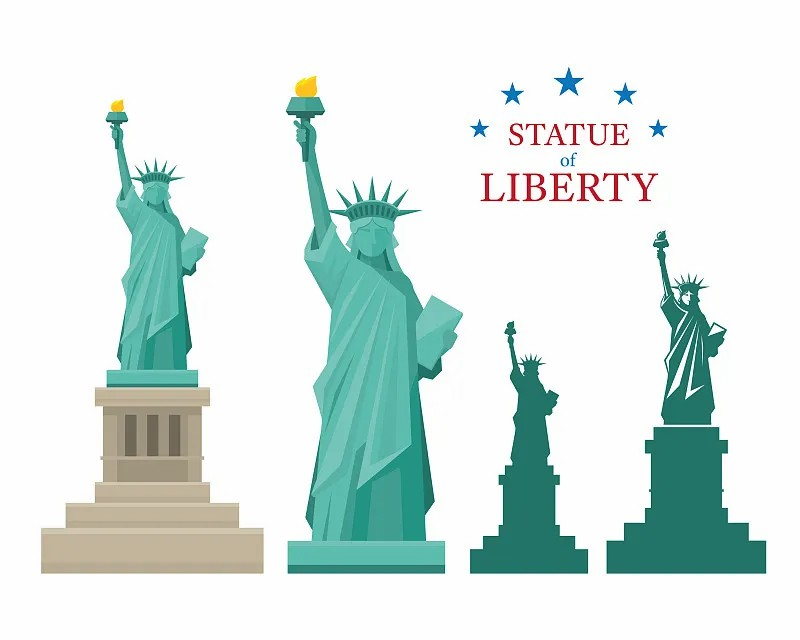SL: (286, 76, 463, 570), (607, 230, 766, 574), (95, 101, 202, 482), (470, 322, 588, 574)
